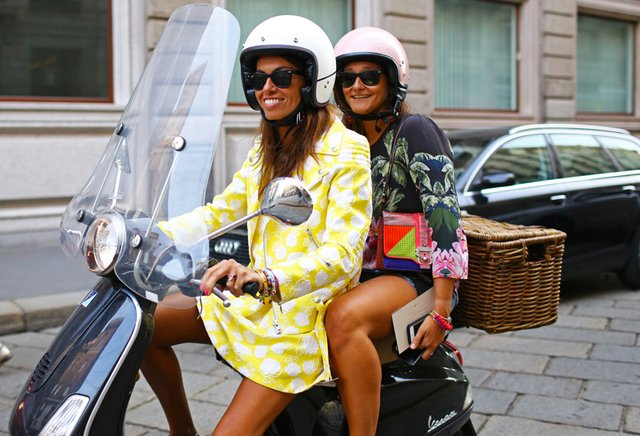helmet: (239, 14, 338, 103), (328, 19, 411, 102)
